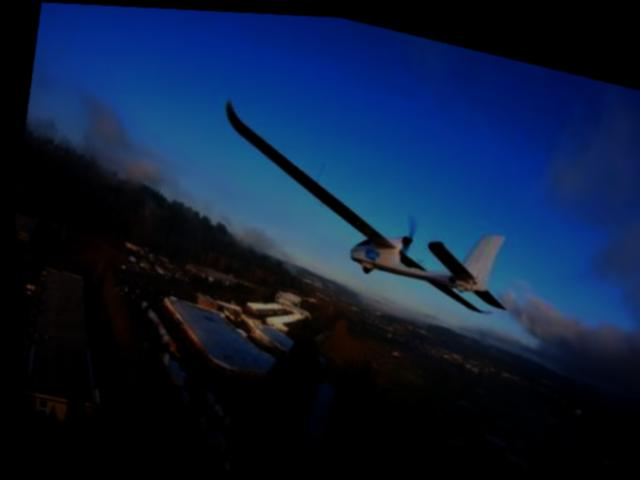uav: (184, 84, 537, 330)
